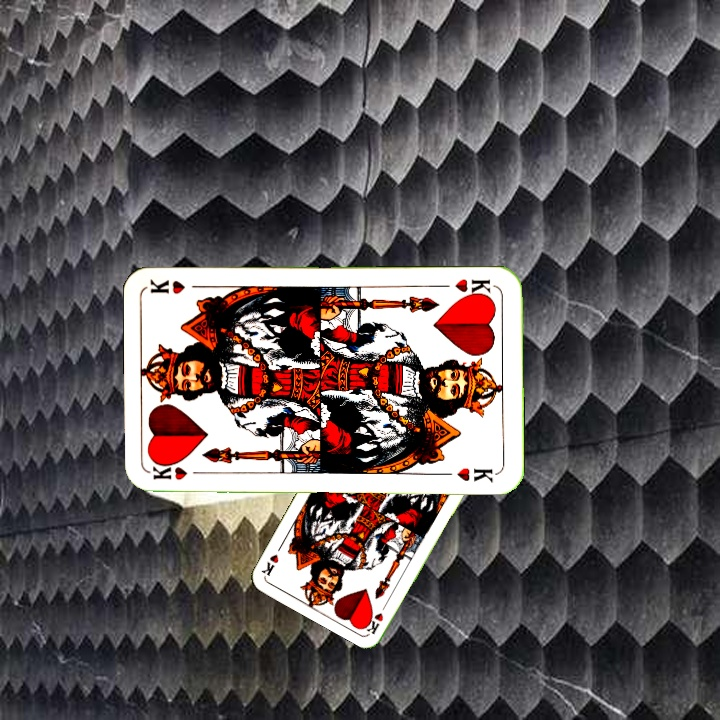HK: (149, 460, 208, 483), (451, 274, 497, 300), (363, 597, 391, 636)
